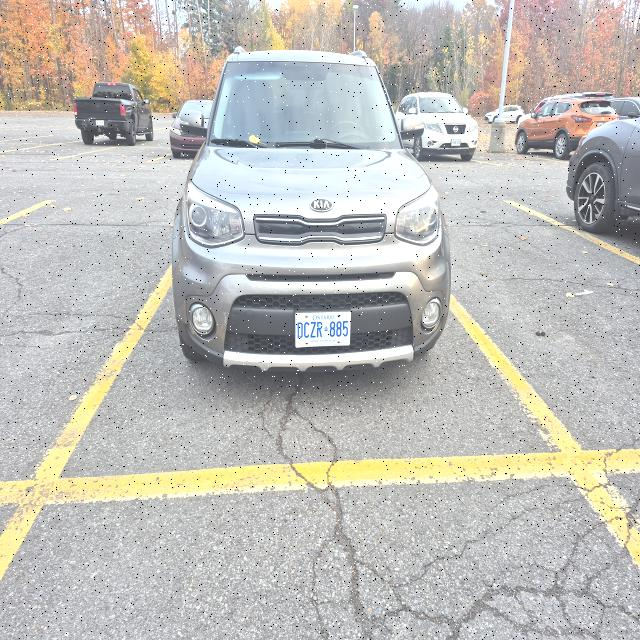plaque: (295, 311, 351, 347), (452, 139, 460, 146), (96, 120, 104, 126), (597, 122, 604, 126)
